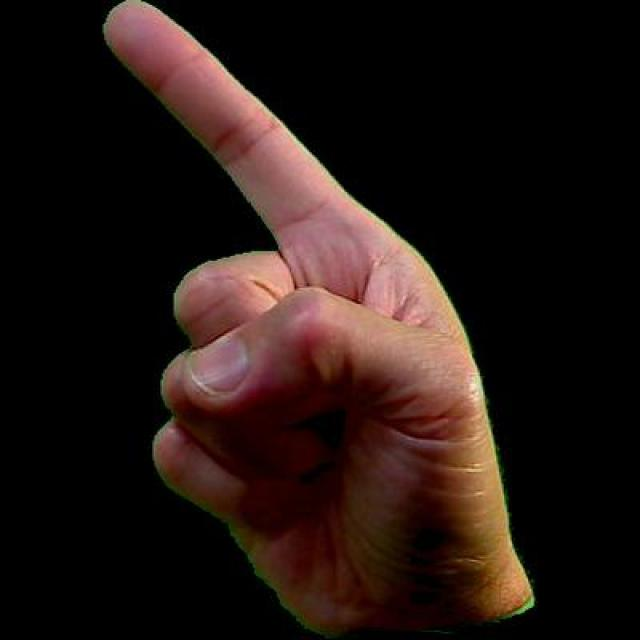z: (98, 0, 536, 637)
